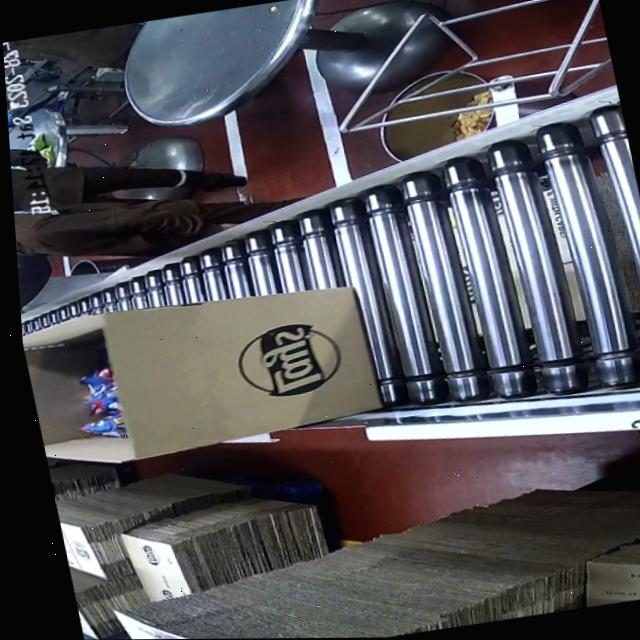PAPRIKA: (65, 361, 137, 453)
